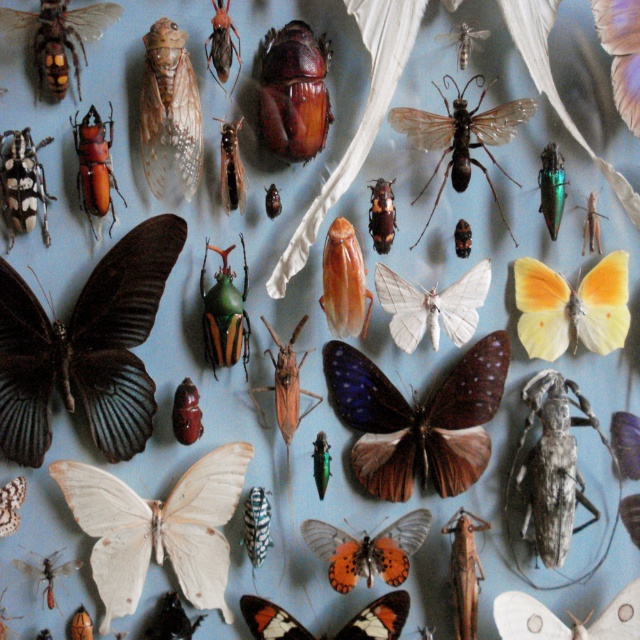Butterfly: (2, 217, 182, 468), (56, 446, 249, 631), (322, 335, 507, 513), (513, 252, 628, 359), (374, 255, 490, 354), (300, 509, 432, 586), (239, 585, 408, 639), (498, 577, 640, 639), (0, 474, 26, 546)
